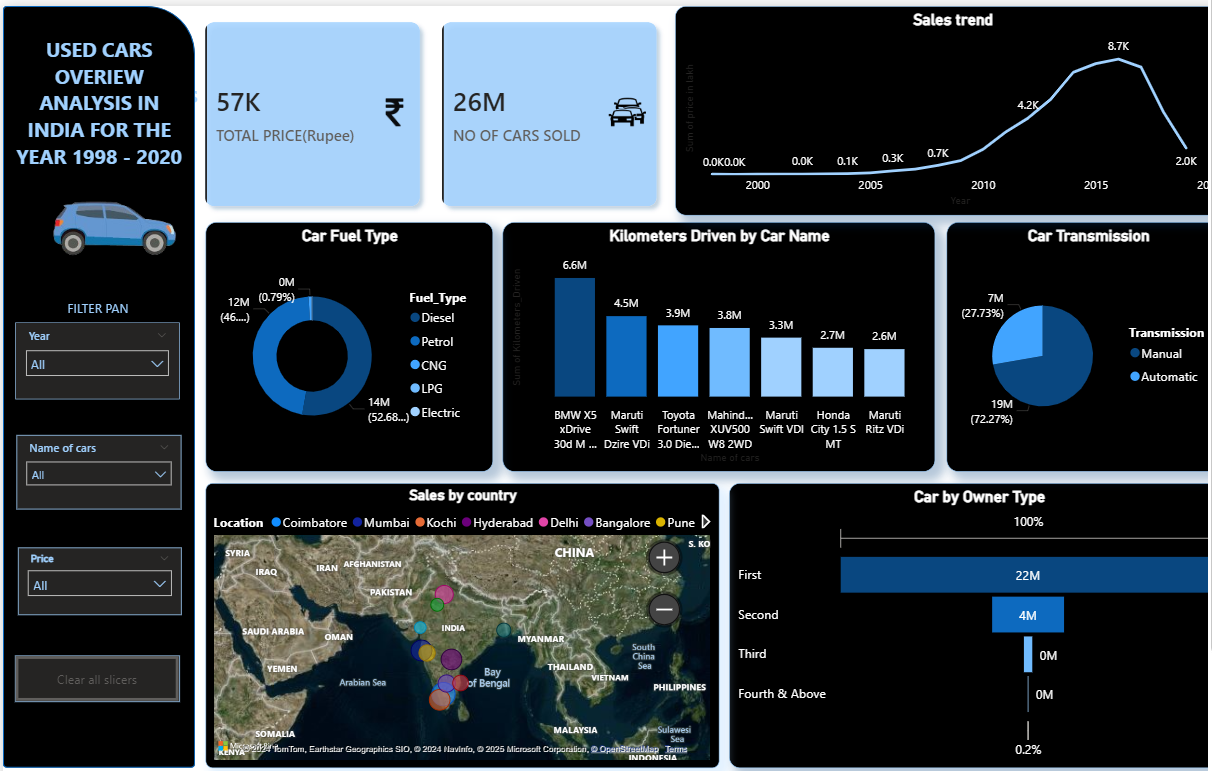

Layout of this report page (visuals, bound fields, positions):
{"tool":"powerbi","page":{"name":"Page 1","canvas":[1335,1043],"ordinal":0},"visuals":[{"type":"clusteredColumnChart","title":"Kilometers Driven by Car Name","fields":{"Category":["used_cars_data.Name"],"Y":["Sum(used_cars_data.Kilometers_Driven)"]},"box":[537.5,232.8,465.6,268.8],"z":0},{"type":"funnel","title":"Car by Owner Type","fields":{"Category":["used_cars_data.Owner_Type"],"Y":["Sum(used_cars_data.S.No.)"]},"box":[781,512.7,538.1,306.3],"z":1000},{"type":"pieChart","title":"Car Transmission","fields":{"Category":["used_cars_data.Transmission"],"Y":["Sum(used_cars_data.S.No.)"]},"box":[1014.1,232.8,304.7,268.8],"z":2000},{"type":"donutChart","title":"Car Fuel Type","fields":{"Y":["Sum(used_cars_data.S.No.)"],"Category":["used_cars_data.Fuel_Type"]},"box":[217.2,232.8,309.4,268.8],"z":3000},{"type":"lineChart","title":"Sales trend","fields":{"Y":["Sum(used_cars_data.Price)"],"Category":["used_cars_data.Year"]},"box":[721.9,0,596.9,225],"z":4000},{"type":"textbox","box":[12.5,21.9,204.7,301.6],"z":5000},{"type":"cardVisual","fields":{"Data":["used_cars_data.Total price","used_cars_data.No of cars sold"]},"box":[200,0,521.9,232.8],"z":6000},{"type":"image","box":[23.4,173.4,209.4,150],"z":7000},{"type":"shape","box":[0,0,206.3,819],"z":8000},{"type":"textbox","box":[6,8,194,188],"z":9000},{"type":"image","box":[0,122.9,225.7,205.7],"z":10000},{"type":"slicer","fields":{"Values":["used_cars_data.Year"]},"box":[12.9,340,177.1,82.9],"z":11000},{"type":"slicer","fields":{"Values":["used_cars_data.Name"]},"box":[14.3,461.4,177.1,80],"z":12000},{"type":"textbox","box":[0,309.4,204.7,28.1],"z":13000},{"type":"slicer","fields":{"Values":["used_cars_data.Price"]},"box":[15.7,582.9,175.7,72.9],"z":14000},{"type":"actionButton","box":[12.9,698.6,177.1,50],"z":15000},{"type":"map","title":"Sales by country","fields":{"Series":["used_cars_data.Location"],"Size":["Sum(used_cars_data.Price)"],"Category":["used_cars_data.Location"]},"box":[217.5,512.7,552.4,306.3],"z":16000}]}

Visuals, with their boxes on the page's 1335x1043 design canvas (x1, y1, x2, y2). These are canvas units, not pixel positions in the 1212x771 screenshot, which may show the page scaled, cropped or inside an application window:
"Kilometers Driven by Car Name" clusteredColumnChart: Rect(538, 233, 1003, 502)
"Car by Owner Type" funnel: Rect(781, 513, 1319, 819)
"Car Transmission" pieChart: Rect(1014, 233, 1319, 502)
"Car Fuel Type" donutChart: Rect(217, 233, 527, 502)
"Sales trend" lineChart: Rect(722, 0, 1319, 225)
textbox: Rect(12, 22, 217, 324)
cardVisual - used_cars_data.Total price x used_cars_data.No of cars sold: Rect(200, 0, 722, 233)
image: Rect(23, 173, 233, 323)
shape: Rect(0, 0, 206, 819)
textbox: Rect(6, 8, 200, 196)
image: Rect(0, 123, 226, 329)
slicer - used_cars_data.Year: Rect(13, 340, 190, 423)
slicer - used_cars_data.Name: Rect(14, 461, 191, 541)
textbox: Rect(0, 309, 205, 338)
slicer - used_cars_data.Price: Rect(16, 583, 191, 656)
actionButton: Rect(13, 699, 190, 749)
"Sales by country" map: Rect(218, 513, 770, 819)
